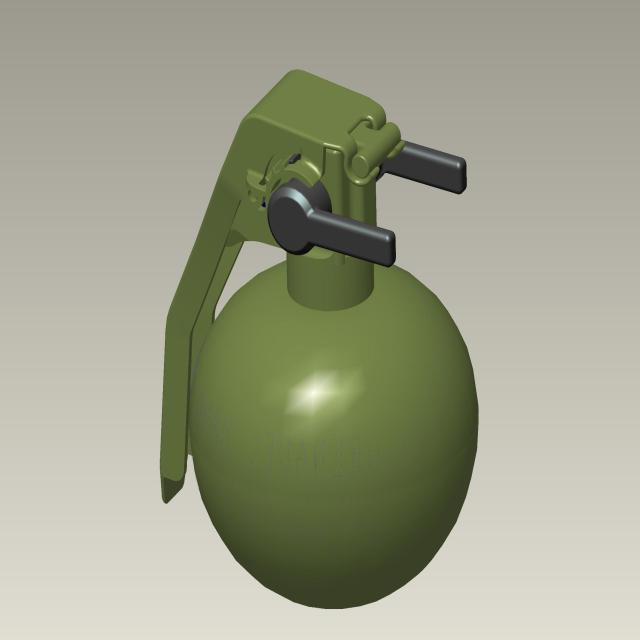grenade: (161, 70, 480, 611)
